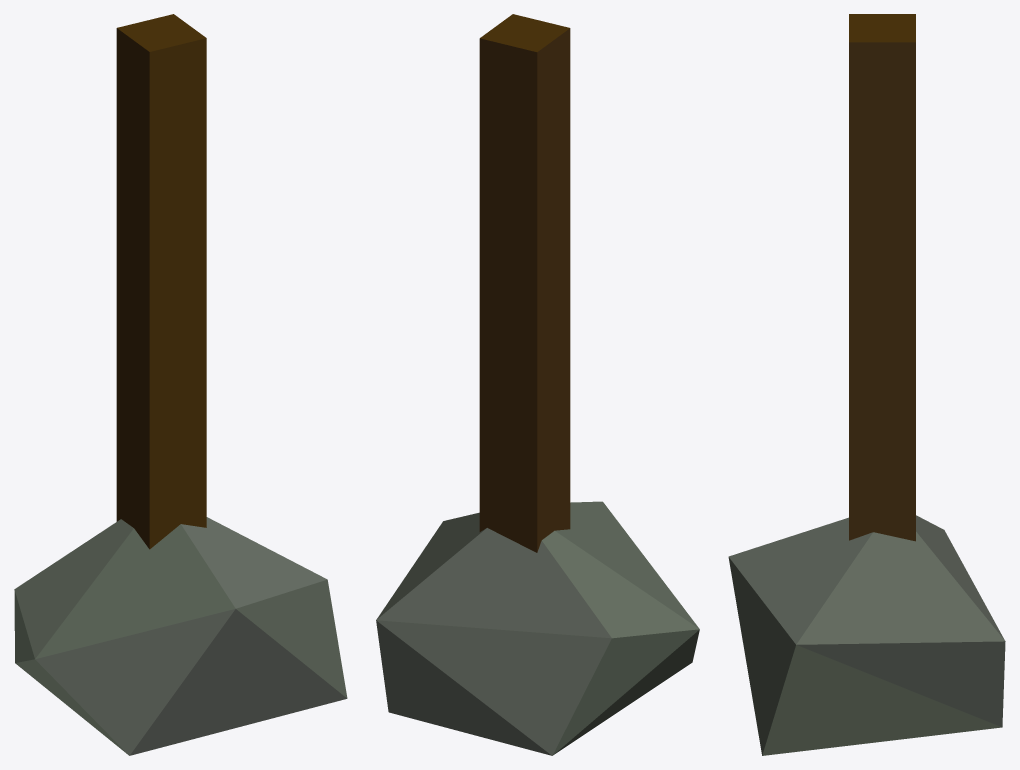
The model's file is LampPostStanding.glb.
3 views of the same model, side by side, from view 1: azimuth 30°, elevation 25°; view 2: azimuth 150°, elevation 25°; view 3: azimuth 270°, elevation 25° (orthographic).
Visible parts, largest first — view 1: LampPostStanding; view 2: LampPostStanding; view 3: LampPostStanding.
Part boxes in pixels (box(x1,y1,x2,y2)): LampPostStanding: box(14, 14, 347, 755); LampPostStanding: box(376, 14, 699, 755); LampPostStanding: box(728, 14, 1005, 755).
Size of the model in its own units: 0.9201 by 2.08 by 0.7836.
